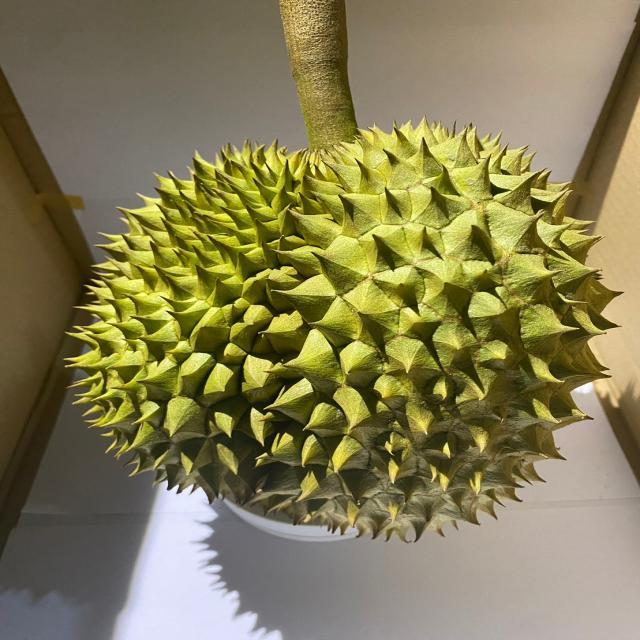immature: (65, 113, 621, 539)
